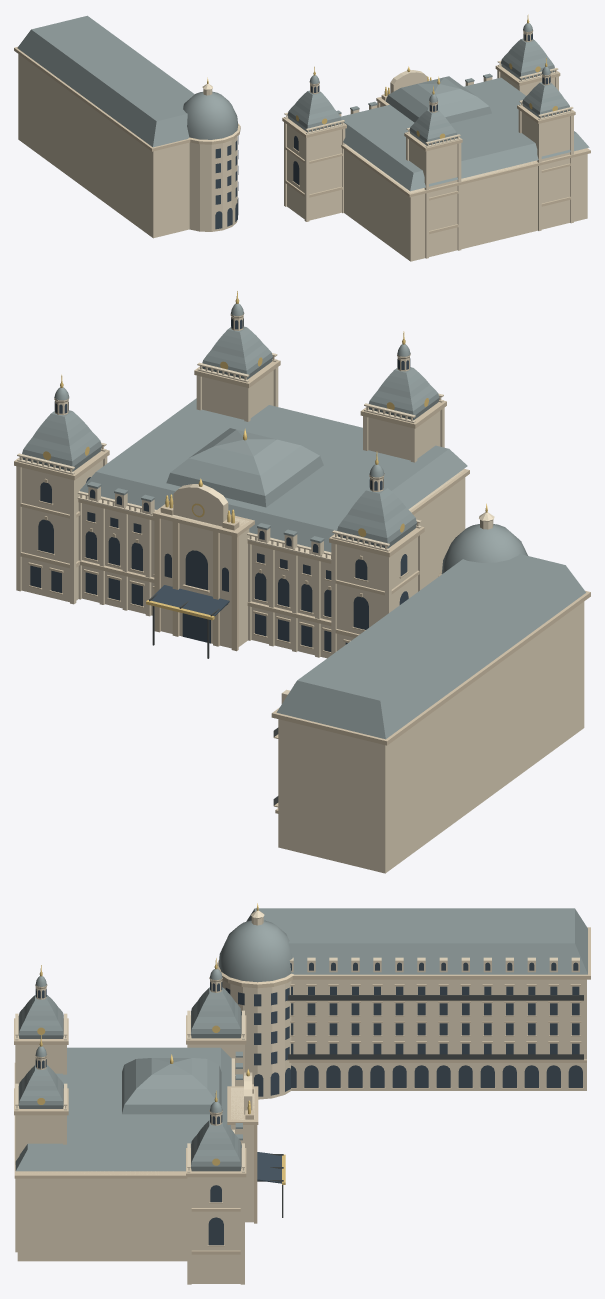
The model's file is casino.glb.
3 views of the same model, one above another, from view 1: azimuth 30°, elevation 25°; view 2: azimuth 150°, elevation 25°; view 3: azimuth 270°, elevation 25° (orthographic). The views are drawn at different scales.
Parts seen in each view (by area): view 1: hotel_de_paris, casino, tower_R, tower_sea_R, tower_sea_L, tower_L; view 2: hotel_de_paris, casino, tower_L, tower_R, tower_sea_L, tower_sea_R; view 3: hotel_de_paris, casino, tower_L, tower_sea_L, tower_sea_R, tower_R.
Part boxes in pixels (x1,y1,x2,y2): hotel_de_paris: [14, 15, 240, 238]; casino: [336, 66, 590, 261]; tower_R: [282, 66, 346, 221]; tower_sea_R: [404, 85, 462, 258]; tower_sea_L: [517, 58, 575, 230]; tower_L: [495, 14, 560, 95]; hotel_de_paris: [271, 503, 590, 873]; casino: [77, 398, 469, 658]; tower_L: [14, 374, 109, 604]; tower_R: [329, 451, 424, 654]; tower_sea_L: [194, 291, 280, 421]; tower_sea_R: [360, 331, 446, 462]; hotel_de_paris: [217, 903, 590, 1099]; casino: [14, 1047, 285, 1261]; tower_L: [186, 1090, 246, 1284]; tower_sea_L: [14, 1035, 68, 1252]; tower_sea_R: [14, 965, 68, 1085]; tower_R: [186, 958, 246, 1086].
Size of the model in its own units: 96.3 by 38.4 by 97.3.
